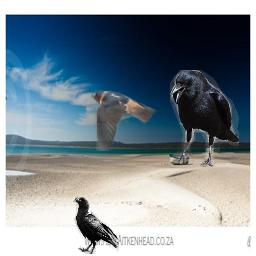Crow: (170, 70, 239, 167), (73, 196, 119, 254)
Swallow: (91, 88, 157, 151)
